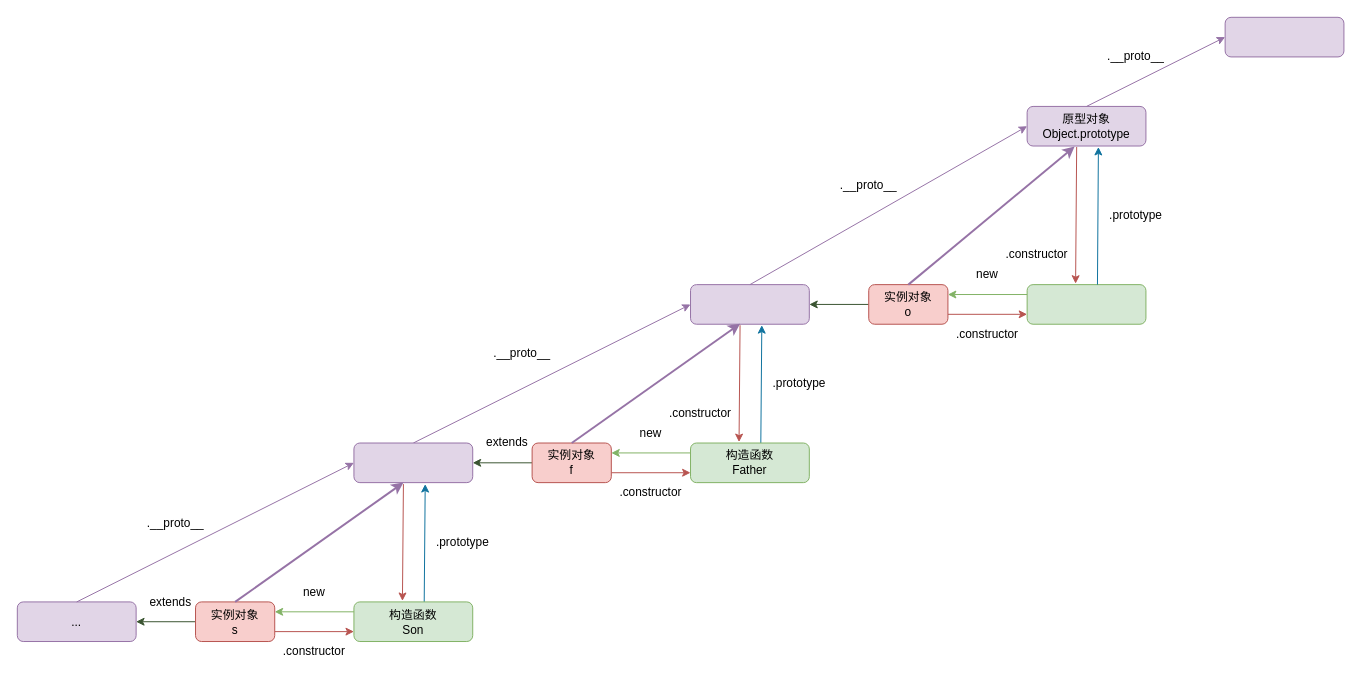
The diagram is 1361 pixels wide and 678 high, and some of its shapes have lost their labels. Here are the shapes that lost their labels. From the top down, the centre of each, then its label:
At point (1284, 36): "null".
At point (749, 304): "原型对象 Father.prototype".
At point (1086, 304): "构造函数 Object".
At point (413, 462): "原型对象 Son.prototype".
